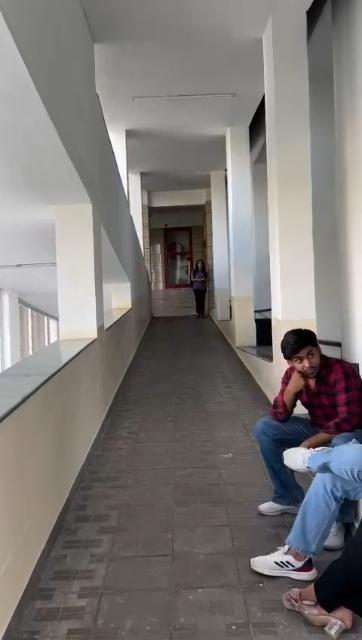floor: (6, 311, 362, 637)
moving-obj: (266, 314, 362, 624)
wall: (0, 305, 159, 640), (274, 14, 360, 320), (53, 13, 121, 329), (1, 1, 53, 259), (216, 136, 270, 334), (131, 154, 153, 332)
